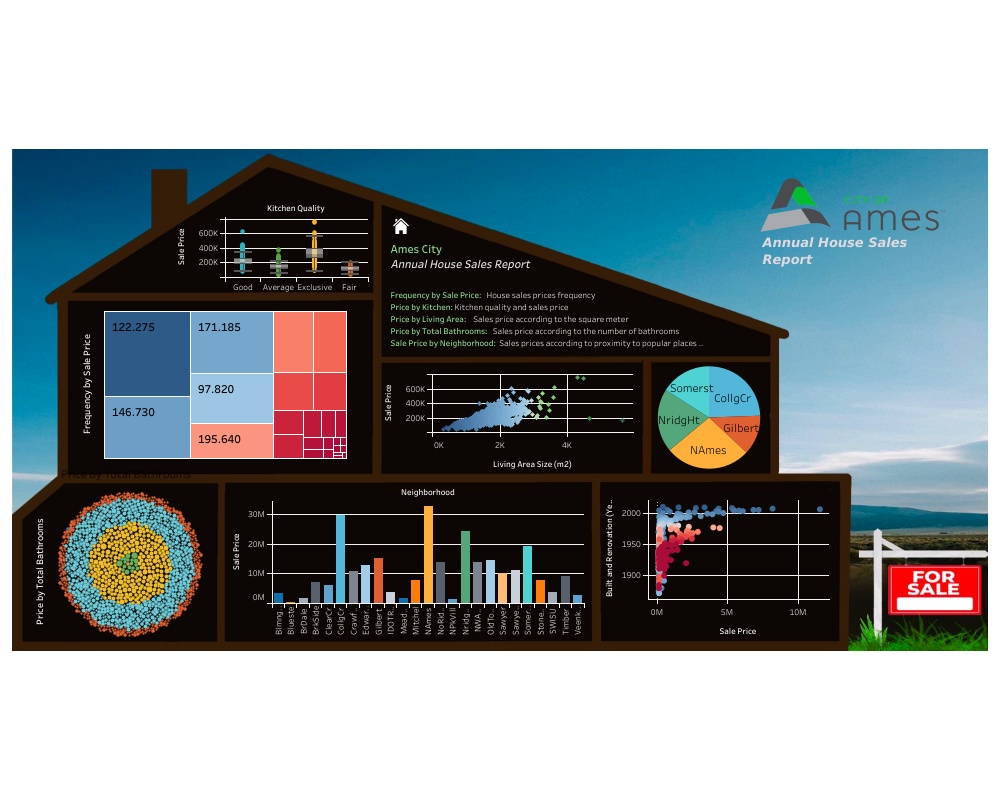

What the dashboard file says about the page in this screenshot:
{"tool":"tableau","page":{"name":"House Predıctıon Dashboard1","canvas":[1000,1000],"units":"permille","ordinal":0},"visuals":[{"type":"image","param":"Image/gokyuzulu3aaf7675.jpg","box":[4.8,9.1,990.5,981.8]},{"type":"image","param":"Image/Untitled_Artwork.PNG","box":[777.6,47.1,205.4,320.9]},{"type":"worksheet","title":"Price by Kitchen","mark":"Circle","rows":["SalePrice"],"cols":["KitchenQual"],"box":[156.8,109.8,210.1,189.9]},{"type":"image","param":"Image/80-804195_house-vector-white-clip-art-at-clipart-library.png","box":[369.2,196.8,69,40.6]},{"type":"text","box":[386.2,248.1,349.9,156.2]},{"type":"worksheet","title":"Frequency by Sale Price (2)","mark":"Automatic","box":[109.4,323,308.4,294.1]},{"type":"worksheet","title":"Top 5 Neighborhood","mark":"Pie","box":[666.7,421.1,121.4,227]},{"type":"worksheet","title":"Price by Living Area","mark":"Automatic","rows":["SalePrice"],"cols":["GrLivArea"],"box":[385.6,428.9,254.5,210.7]},{"type":"image","param":"Image/Bildschirmfoto 2024-01-09 um 13.58.25.png","box":[545.4,428.9,212.4,208.6]},{"type":"worksheet","title":"Sale Price by Neighborhood","mark":"Bar","rows":["SalePrice"],"cols":["Neighborhood"],"box":[222.9,651.3,364.5,309.1]},{"type":"worksheet","title":"Built and Renovation by Year","mark":"Automatic","rows":["YearBuilt"],"cols":["SalePrice"],"box":[601.5,651.3,235.2,297.3]},{"type":"worksheet","title":"Price by Total Bathrooms","mark":"Circle","box":[60.9,655.6,151.6,285.6]}]}

Visuals, with their boxes on the dashboard's canvas, which has no fixed pixel size, in thousandths of its width and height (x1, y1, x2, y2). These are canvas units, not pixel positions in the 999x799 screenshot, which may show the page scaled, cropped or inside an application window:
image: 5:9:995:991
image: 778:47:983:368
"Price by Kitchen" worksheet (Circle marks): 157:110:367:300
image: 369:197:438:237
text: 386:248:736:404
"Frequency by Sale Price (2)" worksheet: 109:323:418:617
"Top 5 Neighborhood" worksheet (Pie marks): 667:421:788:648
"Price by Living Area" worksheet: 386:429:640:640
image: 545:429:758:638
"Sale Price by Neighborhood" worksheet (Bar marks): 223:651:587:960
"Built and Renovation by Year" worksheet: 602:651:837:949
"Price by Total Bathrooms" worksheet (Circle marks): 61:656:212:941
